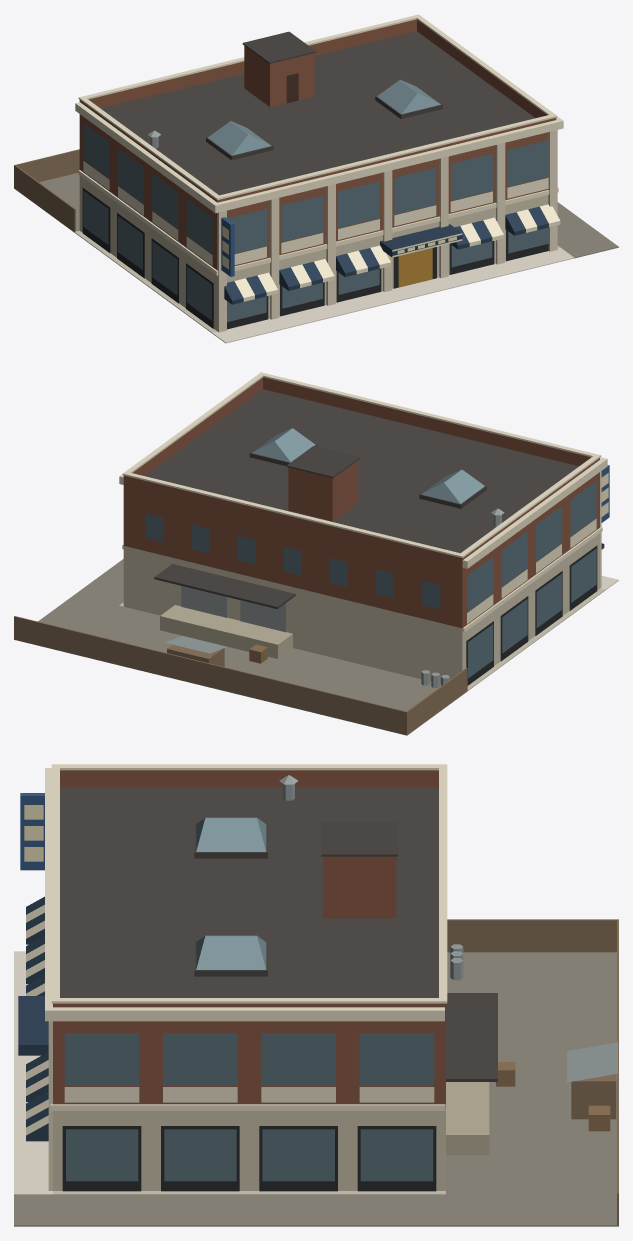
File: store_c.glb
3 renders of one model, top to bottom at view 1: azimuth 30°, elevation 25°; view 2: azimuth 150°, elevation 25°; view 3: azimuth 270°, elevation 25°, orthographic. The views are drawn at different scales.
Visible parts, largest first — view 1: store_c; view 2: store_c; view 3: store_c.
Part boxes in pixels (bbox=[...]): store_c: bbox=[14, 14, 618, 343]; store_c: bbox=[14, 372, 618, 735]; store_c: bbox=[14, 764, 618, 1226].
Bounding box in the file's own units: 30 × 12.05 × 28.
